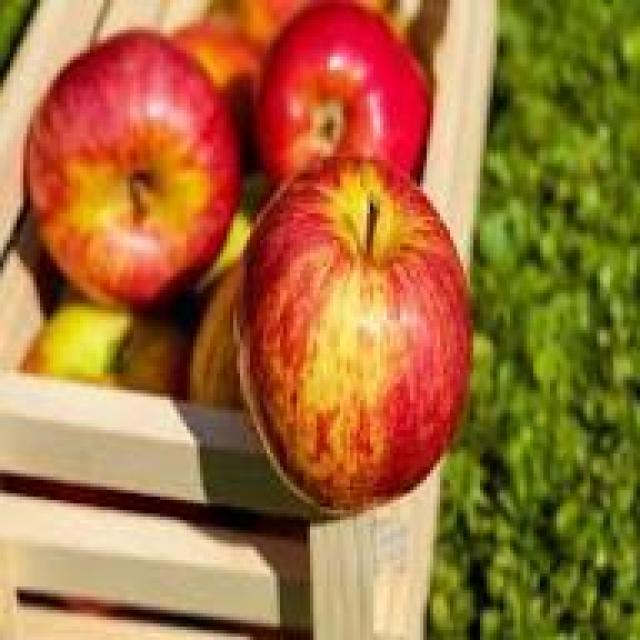apple: (240, 160, 467, 490), (30, 43, 237, 320), (260, 10, 440, 173)
